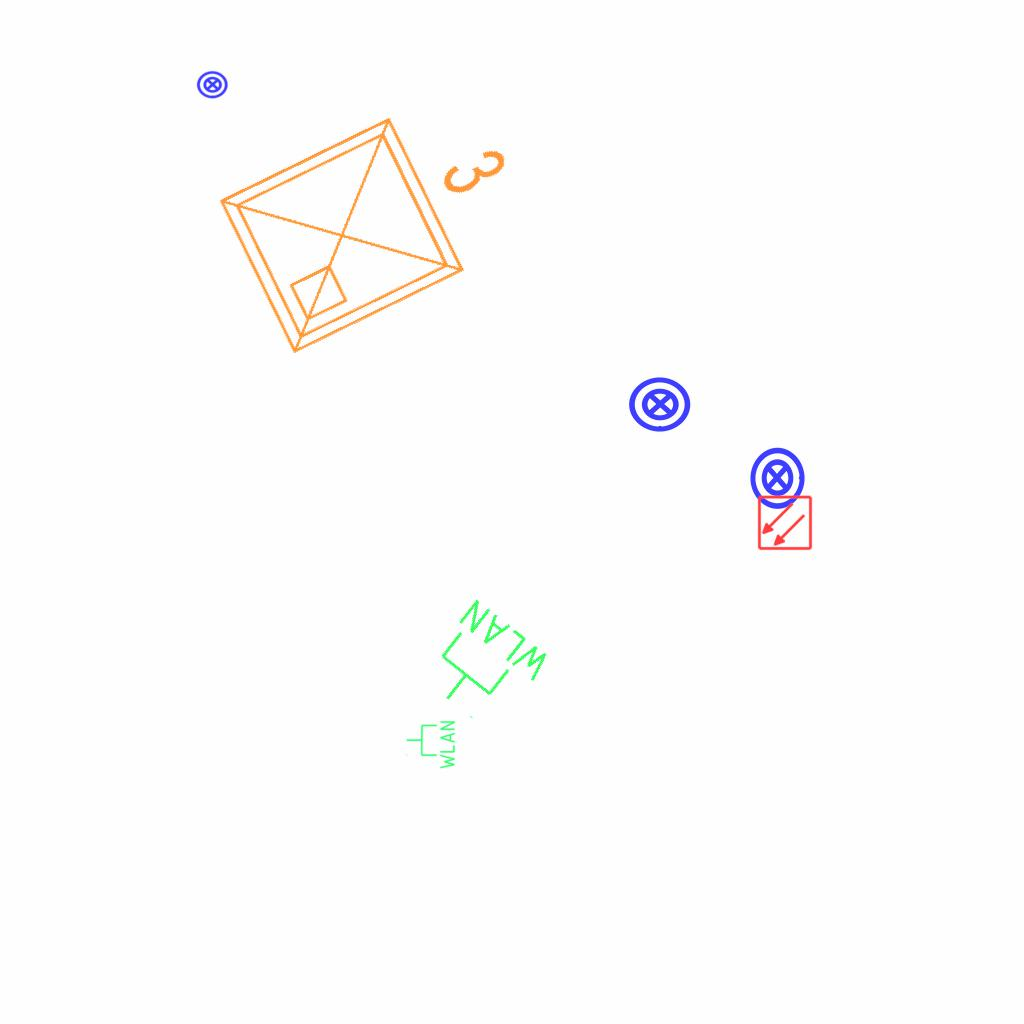Einbaudownlights_LED_Konferenzraeume: (196, 54, 558, 374)
RMO_Rauchmelder_optischer: (757, 495, 813, 551)
Taster_beleuchtet: (744, 445, 810, 511), (627, 371, 693, 437), (196, 68, 229, 101)
WLAN: (411, 593, 559, 740), (405, 719, 457, 771)
